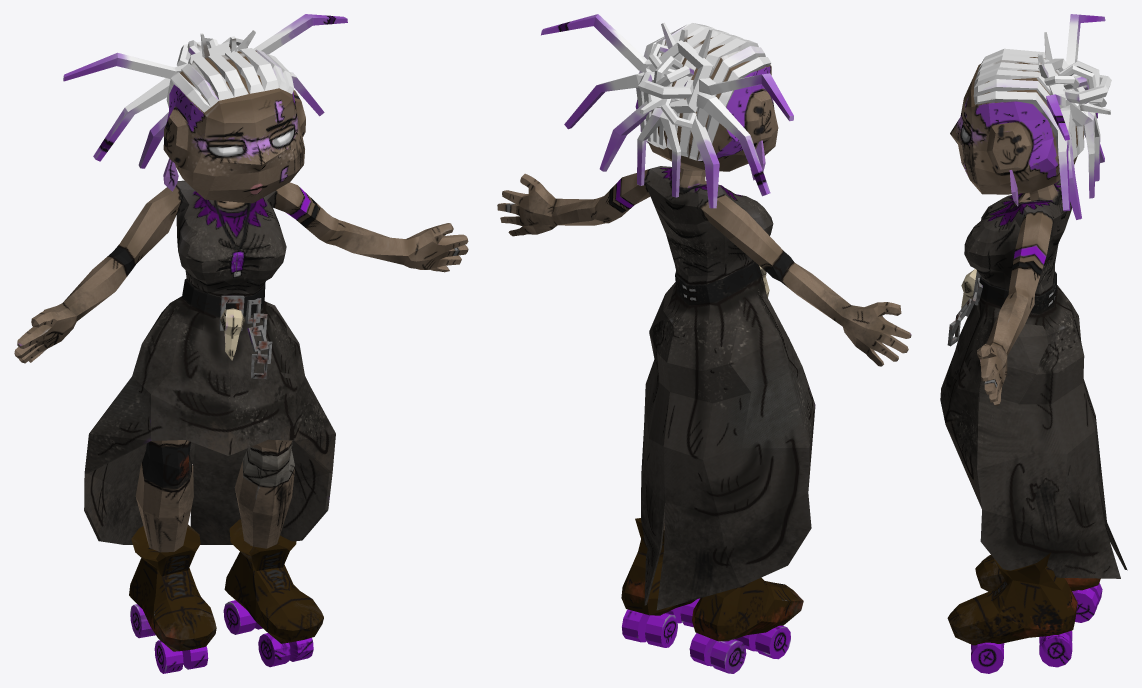
Rendered from bruja_000069.obj.
The picture shows the model from 3 angles, left to right: view 1: azimuth 30°, elevation 25°; view 2: azimuth 150°, elevation 25°; view 3: azimuth 270°, elevation 25°; orthographic projection. The views are drawn at different scales.
Parts seen in each view (by area): view 1: Bruja_Plane.001; view 2: Bruja_Plane.001; view 3: Bruja_Plane.001.
Boxes of the visible parts, box(x1,y1,x2,y2) form: Bruja_Plane.001: box(14, 14, 468, 673); Bruja_Plane.001: box(497, 14, 911, 673); Bruja_Plane.001: box(940, 14, 1127, 673).
Size of the model in its own units: 11.95 by 16.52 by 4.62.
